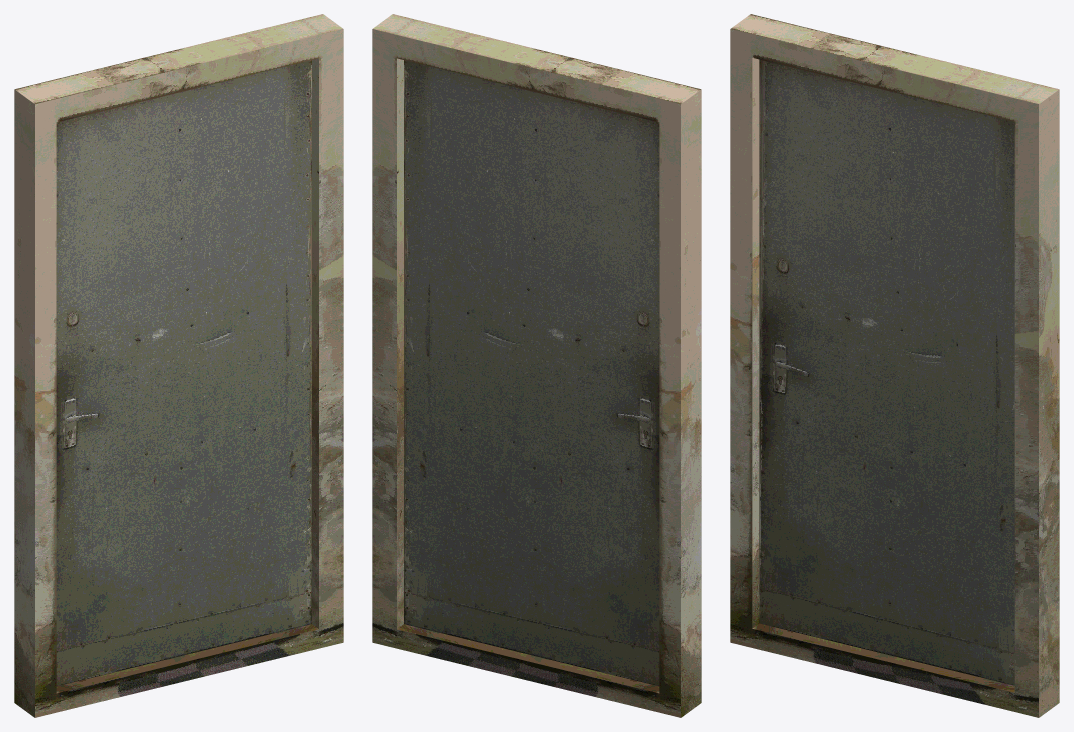
The model's file is appartment_door.glb.
The picture shows the model from 3 angles, left to right: view 1: azimuth 30°, elevation 25°; view 2: azimuth 150°, elevation 25°; view 3: azimuth 330°, elevation 25°; orthographic projection.
Parts seen in each view (by area): view 1: AppartmentDoor.001, AppartmentDoorFrame; view 2: AppartmentDoor.001, AppartmentDoorFrame; view 3: AppartmentDoor.001, AppartmentDoorFrame.
Part boxes in pixels (bbox=[...]): AppartmentDoor.001: bbox=[56, 60, 311, 686]; AppartmentDoorFrame: bbox=[14, 14, 343, 717]; AppartmentDoor.001: bbox=[404, 60, 659, 686]; AppartmentDoorFrame: bbox=[372, 14, 701, 717]; AppartmentDoor.001: bbox=[759, 59, 1014, 685]; AppartmentDoorFrame: bbox=[730, 14, 1059, 717].
Size of the model in its own units: 1.24 by 2.36 by 0.1425.
1 material, 1 textured.
